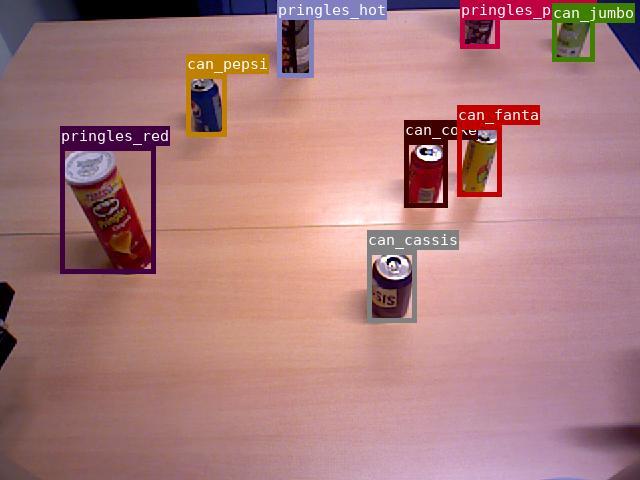can_cassis: (367, 250, 416, 322)
can_coke: (404, 140, 447, 207)
can_fanta: (457, 125, 501, 196)
can_jumbo: (552, 3, 594, 61)
can_pepsi: (186, 74, 226, 136)
pringles_hot: (277, 0, 313, 77)
pringles_purple: (460, 0, 499, 48)
pringles_red: (60, 146, 155, 273)
